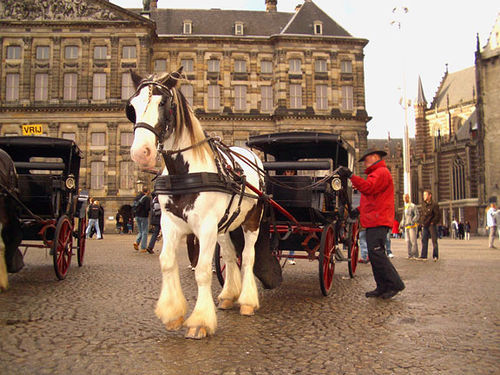horse: (125, 65, 283, 342)
